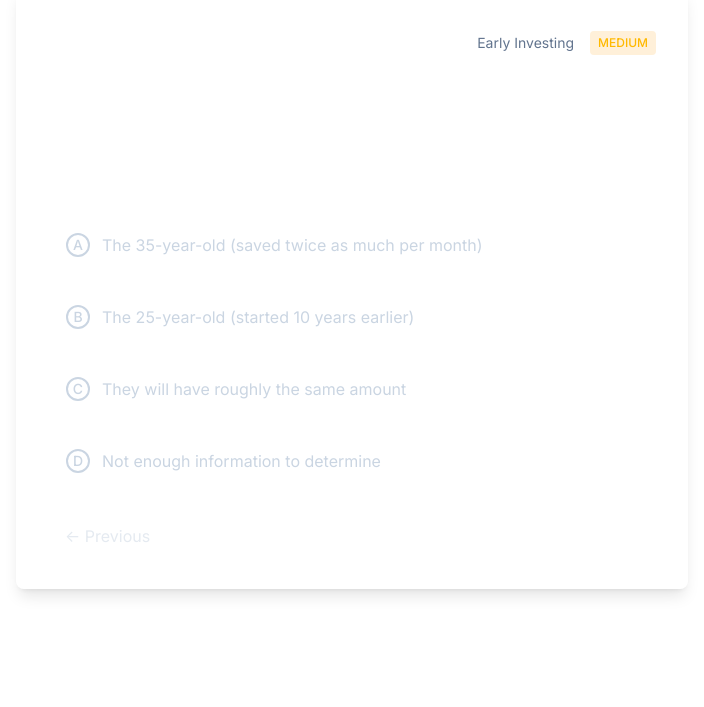
Test: RetirementPlanningQuizEnhanced › includes questions about contribution limits
Click the button "B The 25-year-old (started 10 years earlier)". click: [352, 317]
box: 48,287 -> 656,347
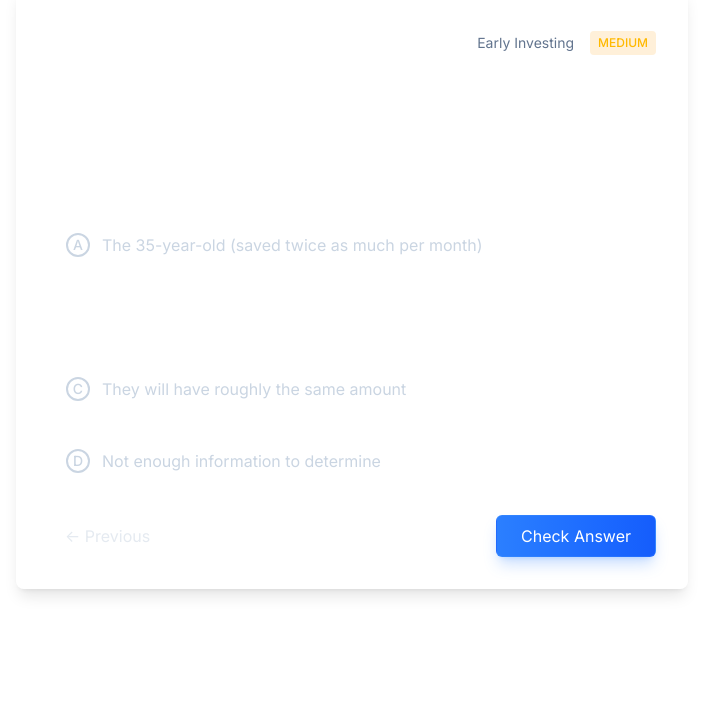
Note: Submit the answer
Click the button "Check Answer". click: [576, 536]
box: 496,515 -> 656,557
(page scrolled)
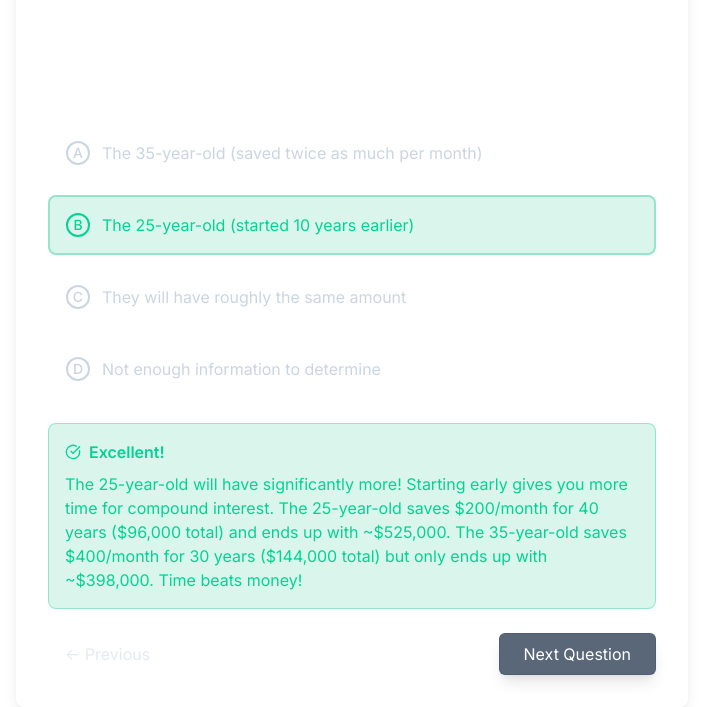
Note: Move to next question
Click the button "Next Question". click: [577, 654]
box: 499,633 -> 656,675
(page scrolled)
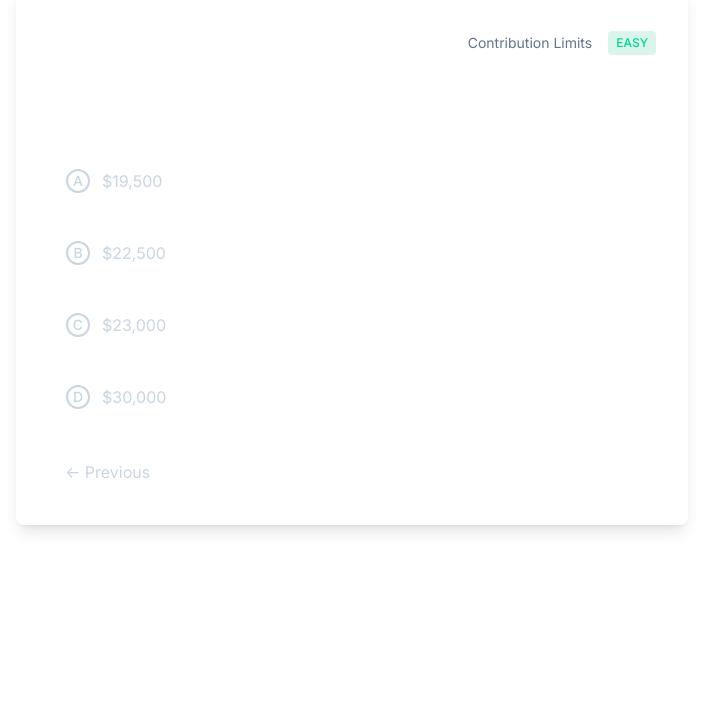
Result: the text "$23,000" is shown at 102,313 -> 166,337
